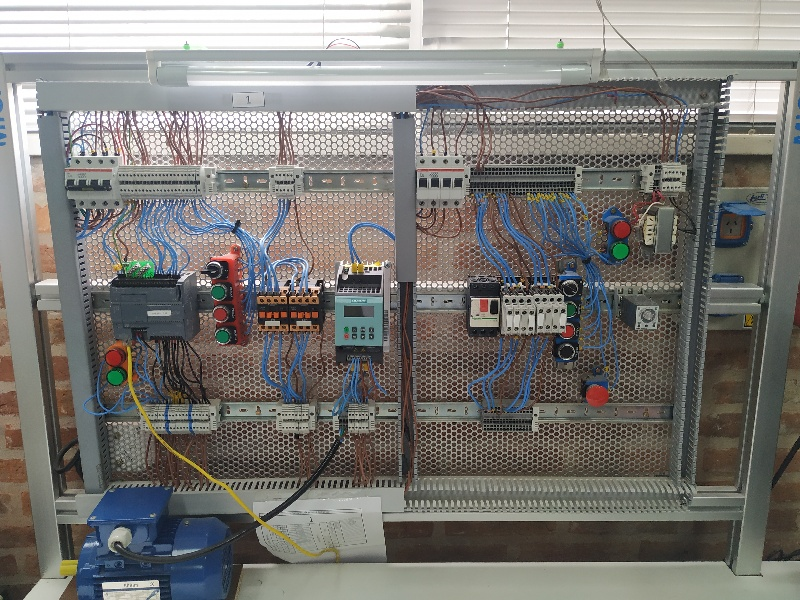Tablero 1: (55, 100, 695, 507)
